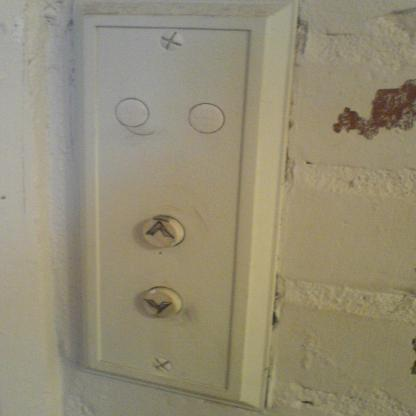down: (136, 283, 187, 321)
empty: (184, 100, 227, 135), (110, 95, 153, 129)
up: (137, 212, 188, 250)
